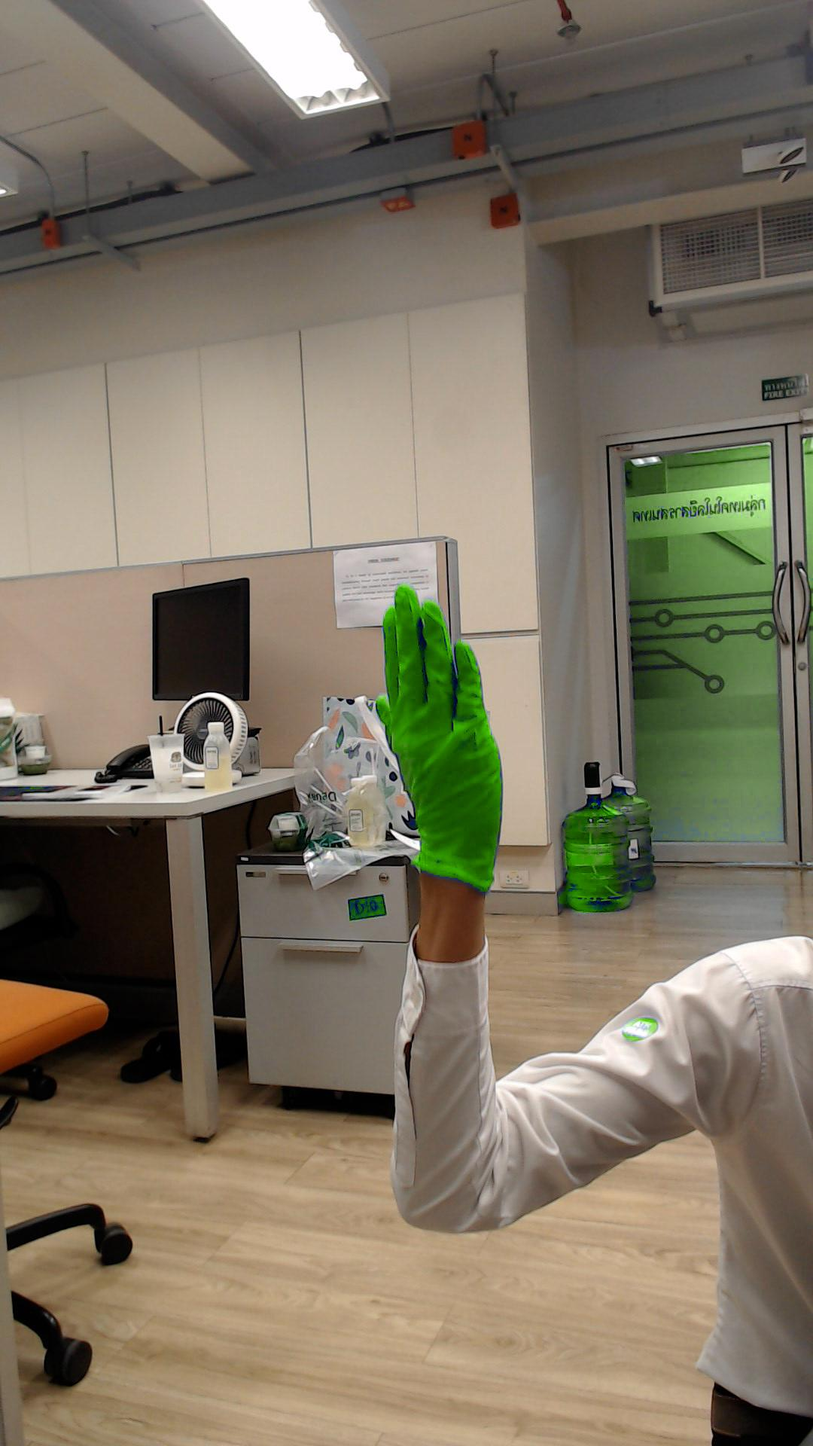gloves: (370, 565, 513, 844)
